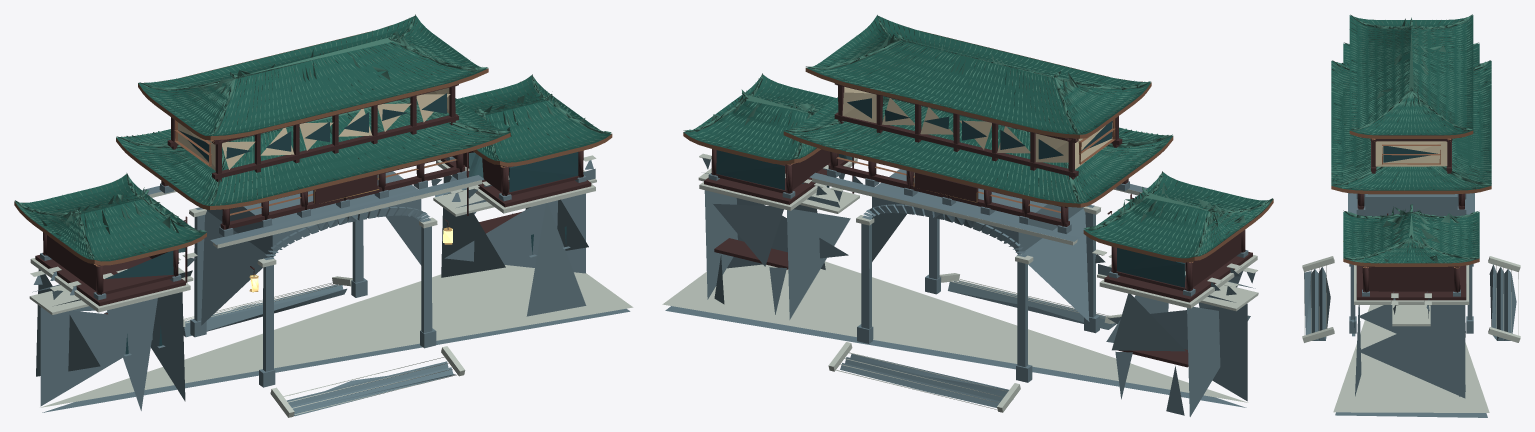
The model's file is sect_gate_lod.glb.
3 views of the same model, side by side, from view 1: azimuth 30°, elevation 25°; view 2: azimuth 150°, elevation 25°; view 3: azimuth 270°, elevation 25° (orthographic). The views are drawn at different scales.
Parts seen in each view (by area): view 1: GateDistant_Stone, GateDistant_Jade, GateDistant_Coping, GateDistant_TileLight, GateDistant_Timber, GateDistant_Cedar, GateDistant_Window, GateDistant_Plaster; view 2: GateDistant_Stone, GateDistant_Jade, GateDistant_Coping, GateDistant_TileLight, GateDistant_Timber, GateDistant_Cedar, GateDistant_Window, GateDistant_Plaster; view 3: GateDistant_Jade, GateDistant_TileLight, GateDistant_Stone, GateDistant_Coping, GateDistant_Timber, GateDistant_Cedar, GateDistant_Plaster, GateDistant_Window.
Boxes of the visible parts, x1,y1,x2,y2 form: GateDistant_Stone: (32, 156, 630, 416); GateDistant_Jade: (15, 15, 611, 261); GateDistant_Coping: (29, 155, 633, 417); GateDistant_TileLight: (15, 14, 611, 260); GateDistant_Timber: (35, 84, 605, 314); GateDistant_Cedar: (14, 25, 612, 266); GateDistant_Window: (105, 93, 578, 354); GateDistant_Plaster: (175, 88, 450, 170); GateDistant_Stone: (665, 156, 1255, 416); GateDistant_Jade: (683, 15, 1273, 258); GateDistant_Coping: (662, 153, 1258, 412); GateDistant_TileLight: (683, 15, 1272, 257); GateDistant_Timber: (704, 74, 1252, 367); GateDistant_Cedar: (683, 20, 1273, 262); GateDistant_Window: (716, 98, 1185, 287); GateDistant_Plaster: (842, 87, 1112, 169); GateDistant_Jade: (1331, 15, 1491, 263); GateDistant_TileLight: (1331, 14, 1491, 263); GateDistant_Stone: (1304, 193, 1516, 417); GateDistant_Coping: (1302, 256, 1520, 412); GateDistant_Timber: (1347, 135, 1476, 300); GateDistant_Cedar: (1331, 130, 1491, 268); GateDistant_Plaster: (1375, 141, 1447, 166); GateDistant_Window: (1354, 146, 1437, 327).
Bounding box in the file's own units: 31 × 16.18 × 12.54.
